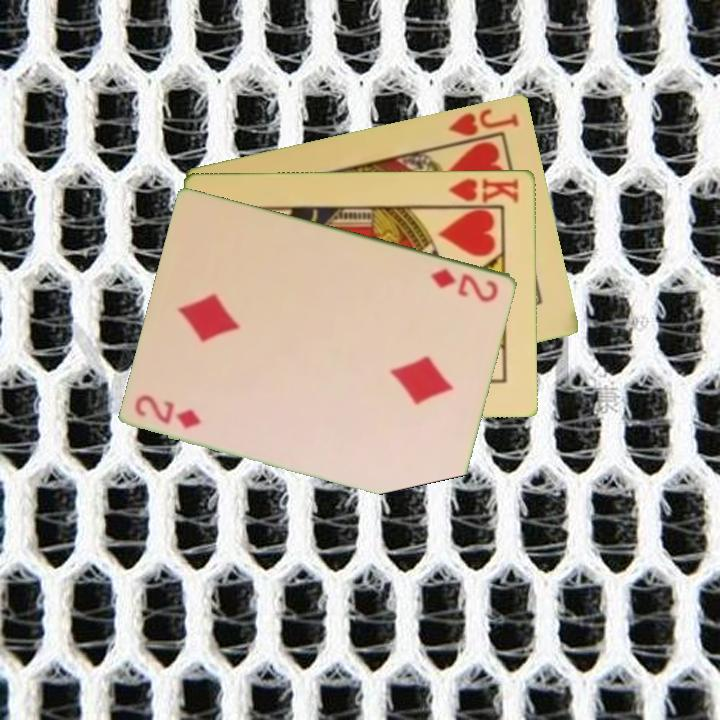2d: (428, 264, 502, 305), (132, 392, 205, 432)
Jh: (445, 104, 522, 139)
Kh: (442, 174, 522, 208)
